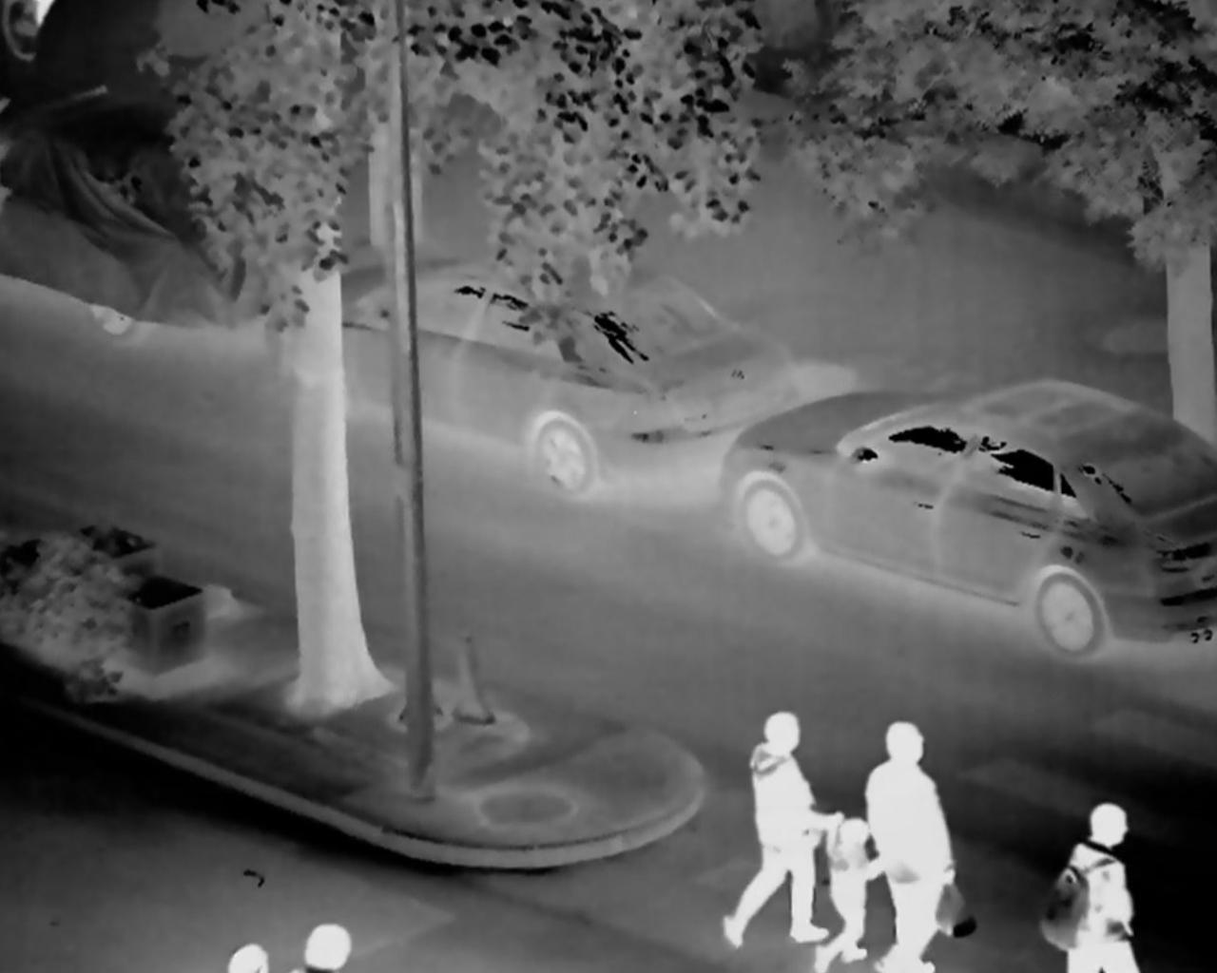person: (860, 717, 969, 973), (724, 709, 830, 952)
